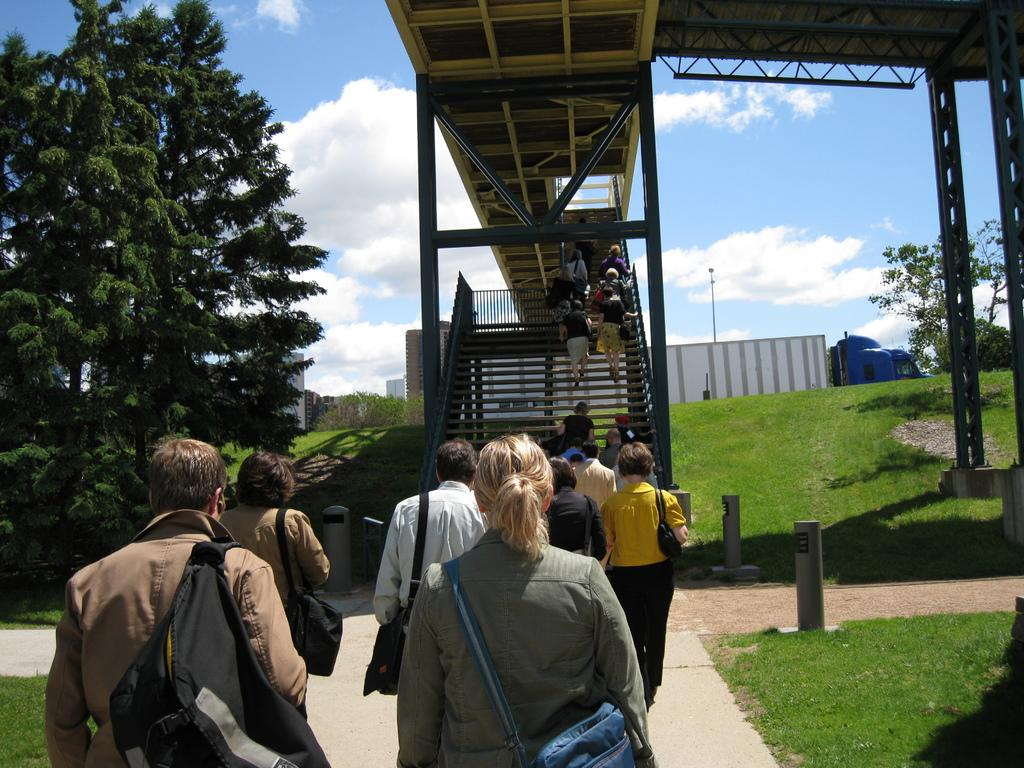Luggage-and-bags: (73, 540, 312, 742), (439, 558, 634, 767), (362, 490, 435, 700), (273, 504, 342, 680), (654, 486, 697, 563), (567, 497, 593, 559), (618, 299, 630, 341), (573, 260, 584, 292)
